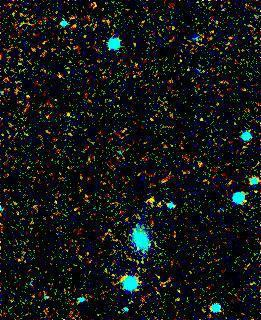star: (136, 185, 166, 215)
